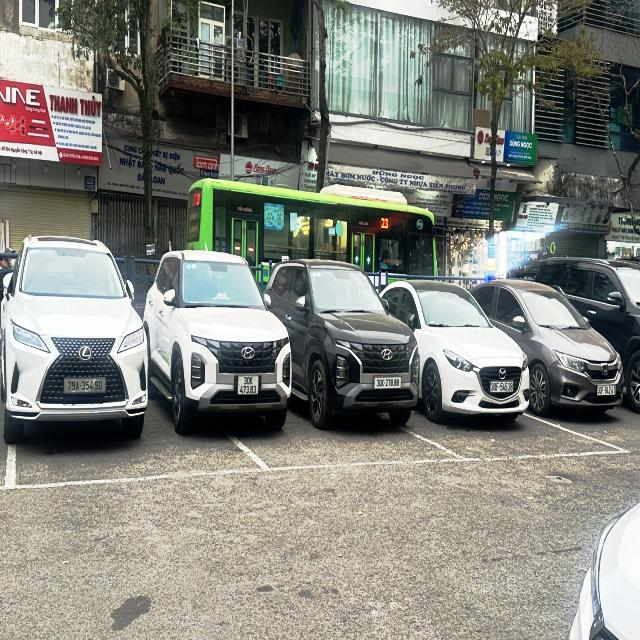license_plate: (63, 376, 108, 397), (237, 374, 262, 398), (374, 375, 403, 391), (490, 380, 515, 395), (597, 385, 618, 398)
